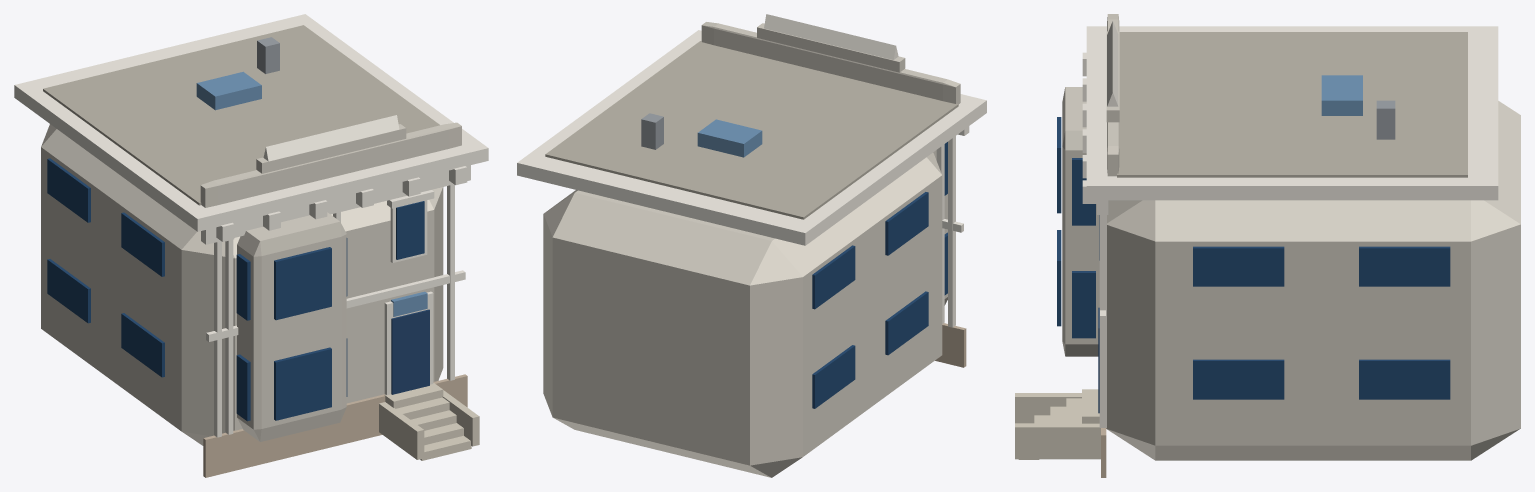
Rendered from stick_w9_false.glb.
3 views of the same model, side by side, from view 1: azimuth 30°, elevation 25°; view 2: azimuth 150°, elevation 25°; view 3: azimuth 270°, elevation 25° (orthographic). The views are drawn at different scales.
Parts seen in each view (by area): view 1: walls, roofslab, corn, bay, bsmt, fp, bw, bw.001, door, frieze, roof, fp2 (+23 smaller); view 2: walls, roofslab, corn, fp, roof, fp2, skylt, sb, sb.002, sb.004, sb.006, stick.003 (+3 smaller); view 3: walls, roofslab, corn, bay, sb.001, sb.003, sb.005, sb.007, cheek.001, skylt, bws.001, stick.002 (+6 smaller).
Part boxes in pixels (x1,y1,x2,y2): walls: (41, 124, 443, 445); roofslab: (43, 25, 439, 205); corn: (14, 14, 488, 231); bay: (237, 212, 346, 441); bsmt: (203, 374, 467, 477); fp: (200, 122, 461, 207); bw: (274, 347, 331, 420); bw.001: (274, 247, 331, 320); door: (391, 309, 429, 394); frieze: (201, 165, 470, 244); roof: (263, 115, 399, 161); fp2: (256, 124, 406, 173); walls: (543, 152, 942, 477); roofslab: (545, 41, 958, 219); corn: (517, 30, 986, 245); fp: (701, 22, 960, 103); roof: (764, 14, 898, 59); fp2: (757, 23, 905, 72); skylt: (697, 119, 762, 157); sb: (885, 291, 928, 355); sb.002: (812, 345, 855, 408); sb.004: (885, 192, 928, 255); sb.006: (812, 245, 855, 309); stick.003: (948, 136, 955, 327); walls: (1106, 101, 1520, 460); roofslab: (1117, 32, 1467, 177); corn: (1086, 26, 1498, 200); bay: (1062, 87, 1099, 356); sb.001: (1193, 359, 1284, 399); sb.003: (1359, 359, 1450, 399); sb.005: (1193, 246, 1284, 286); sb.007: (1359, 246, 1450, 286); cheek.001: (1015, 423, 1100, 459); skylt: (1321, 75, 1362, 115); bws.001: (1072, 271, 1095, 338); stick.002: (1099, 215, 1106, 427).
Bounding box in the file's own units: 10 × 10.22 × 13.4.
